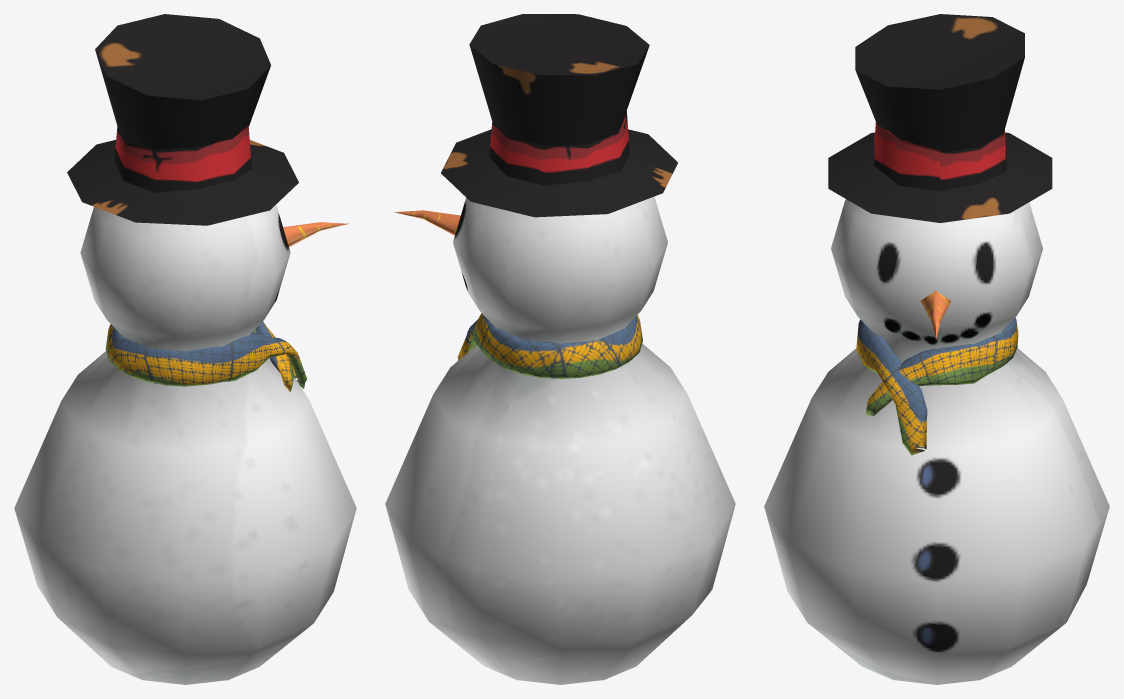
File: bonecoNeve01.FBX
3 views of the same model, side by side, from view 1: azimuth 30°, elevation 25°; view 2: azimuth 150°, elevation 25°; view 3: azimuth 270°, elevation 25° (orthographic). The views are drawn at different scales.
Parts seen in each view (by area): view 1: bonecoNeve, bonecoNeveCartola, bonecoNeveKxKOL, bonecoNeveNariz; view 2: bonecoNeve, bonecoNeveCartola, bonecoNeveKxKOL, bonecoNeveNariz; view 3: bonecoNeve, bonecoNeveCartola, bonecoNeveKxKOL, bonecoNeveNariz.
Part boxes in pixels (<box>): bonecoNeve: <box>14,205,356,684</box>; bonecoNeveCartola: <box>67,14,298,225</box>; bonecoNeveKxKOL: <box>105,321,307,391</box>; bonecoNeveNariz: <box>283,222,348,246</box>; bonecoNeve: <box>385,196,735,684</box>; bonecoNeveCartola: <box>441,14,677,217</box>; bonecoNeveKxKOL: <box>457,313,642,378</box>; bonecoNeveNariz: <box>394,210,460,235</box>; bonecoNeve: <box>764,199,1109,684</box>; bonecoNeveCartola: <box>828,14,1052,222</box>; bonecoNeveKxKOL: <box>856,317,1018,455</box>; bonecoNeveNariz: <box>920,290,951,338</box>.
Size of the model in its own units: 77.12 by 146 by 73.38.
